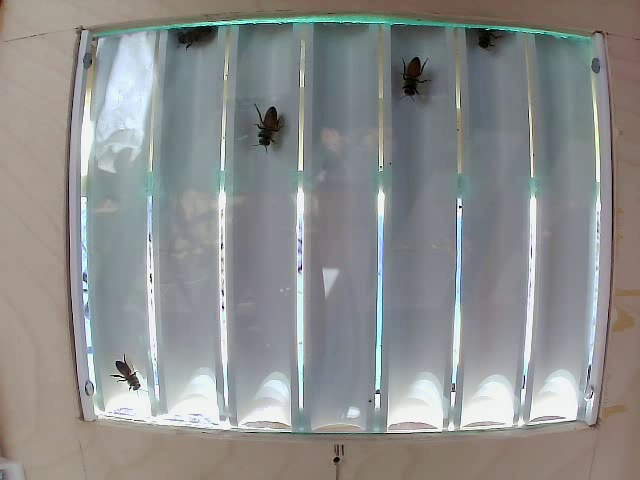bee: (245, 88, 289, 169), (380, 58, 430, 117), (186, 29, 237, 65), (474, 23, 511, 66)
